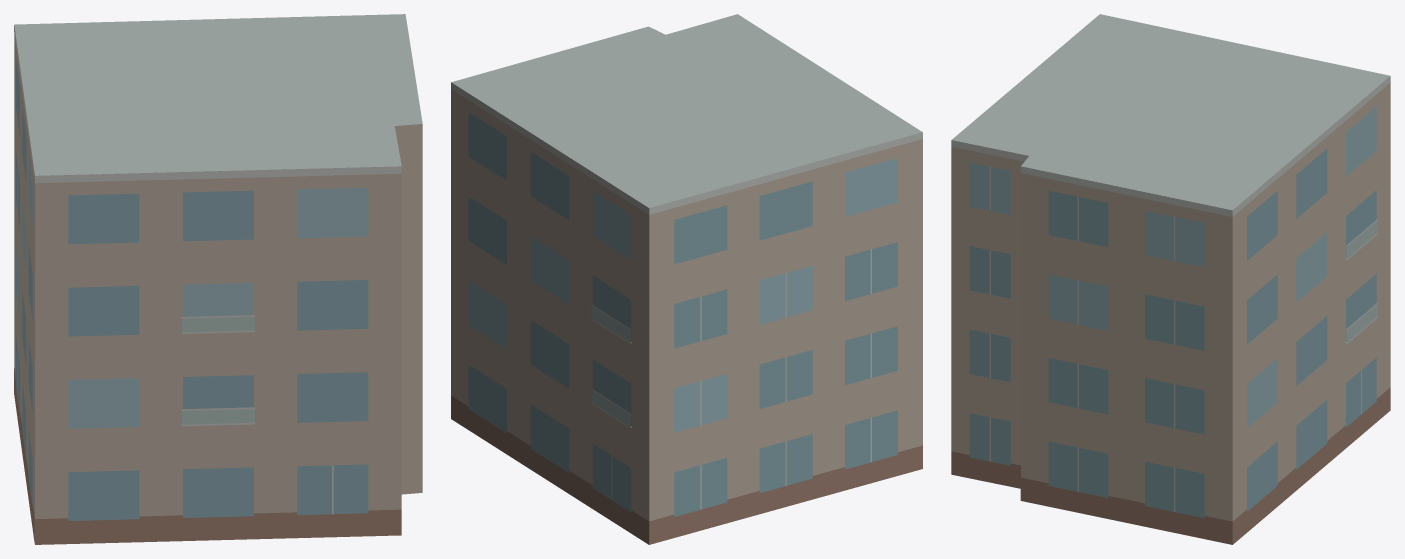
The model's file is survey-upis-32846378.glb.
3 views of the same model, side by side, from view 1: azimuth 30°, elevation 25°; view 2: azimuth 150°, elevation 25°; view 3: azimuth 270°, elevation 25° (orthographic). The views are drawn at different scales.
Parts seen in each view (by area): view 1: survey-upis-32846378.tmp; view 2: survey-upis-32846378.tmp; view 3: survey-upis-32846378.tmp.
Part boxes in pixels (x1,y1,x2,y2): survey-upis-32846378.tmp: (14,14,422,544); survey-upis-32846378.tmp: (451,14,922,544); survey-upis-32846378.tmp: (951,14,1390,544).
Bounding box in the file's own units: 15.36 × 12.2 × 14.53.
